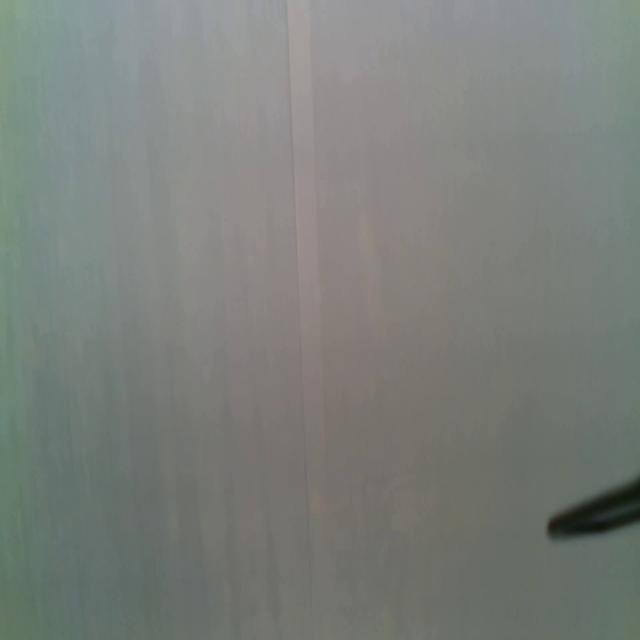crease: (289, 0, 317, 640)
